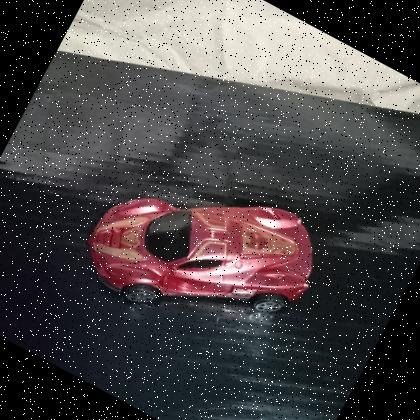Car: (88, 199, 313, 312)
